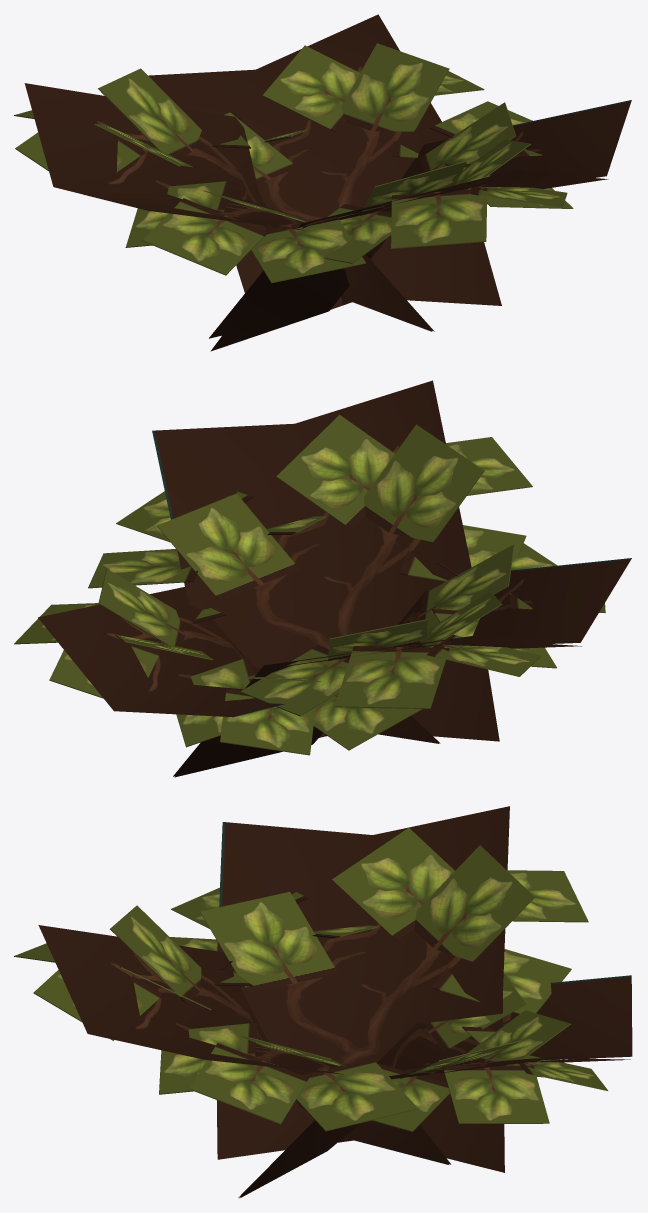
The model's file is bush_01d.fbx.
The picture shows the model from 3 angles, top to bottom: view 1: azimuth 30°, elevation 25°; view 2: azimuth 150°, elevation 25°; view 3: azimuth 270°, elevation 25°; orthographic projection. The views are drawn at different scales.
Parts seen in each view (by area): view 1: bush_01d; view 2: bush_01d; view 3: bush_01d.
Part boxes in pixels (bbox=[...]): bush_01d: bbox=[14, 14, 631, 351]; bush_01d: bbox=[14, 380, 631, 777]; bush_01d: bbox=[14, 806, 632, 1198].
Bounding box in the file's own units: 8.67 × 3.75 × 9.
